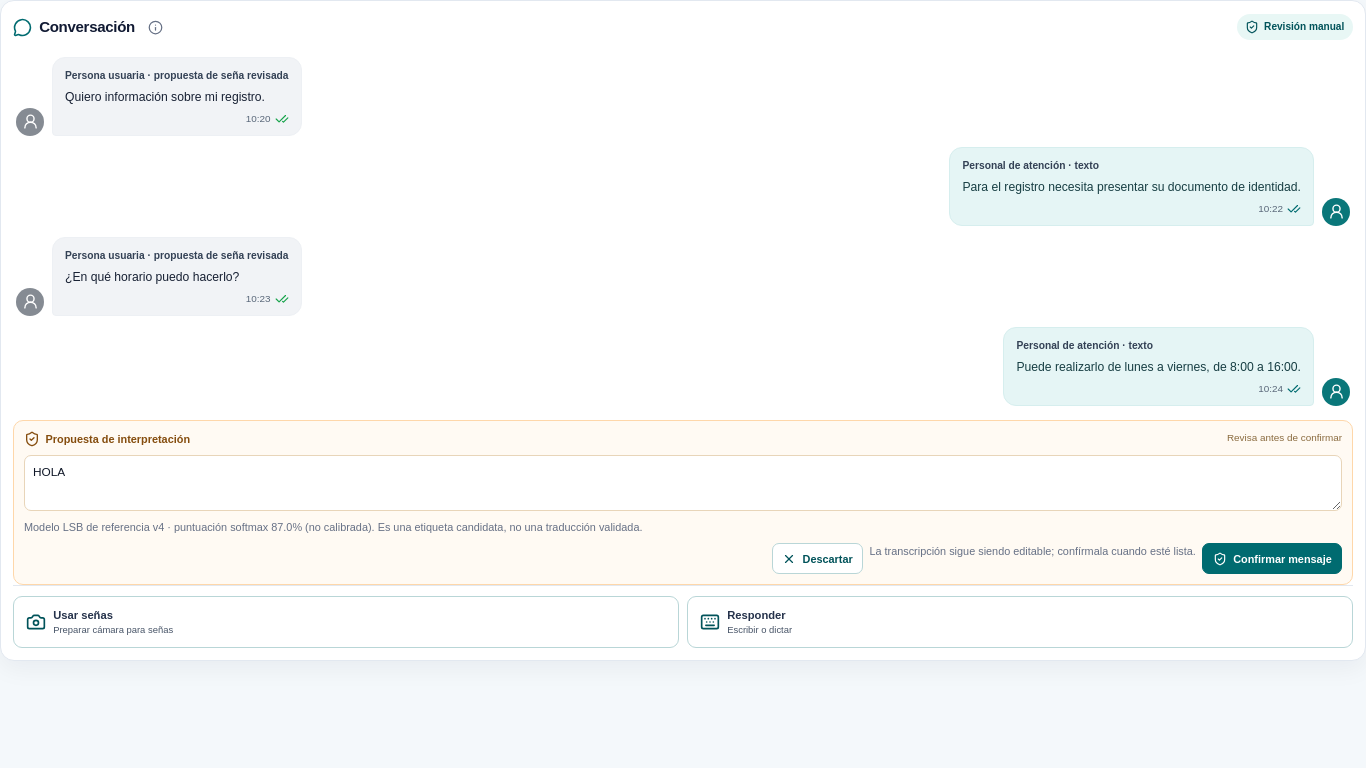
ConversationPanel › lets the user review and correct a model candidate before confirming
The image size is (1366, 768).
Replace the text in the text box named "Editar propuesta" with "Necesito orientación para mi trámite." at (683, 483), box [24,455,1342,511]
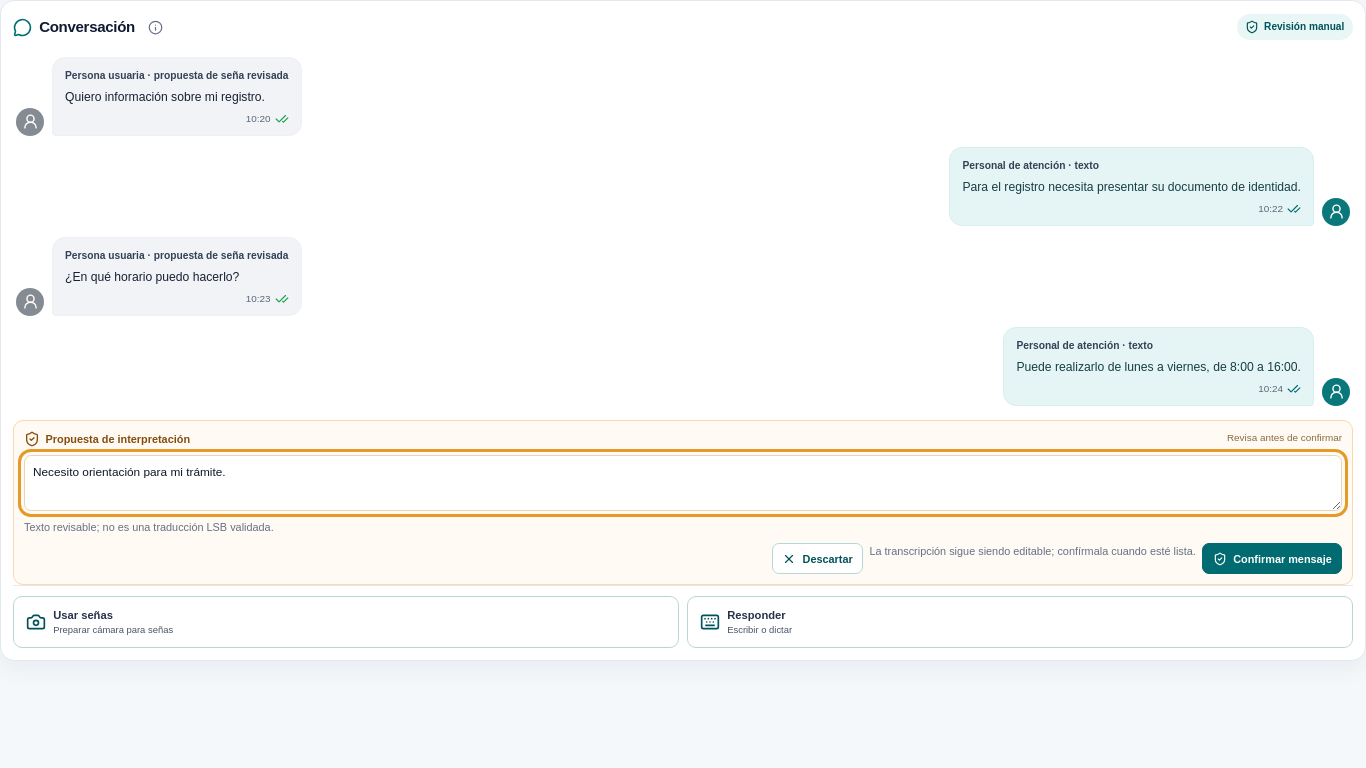
Click the button "Confirmar mensaje" at (1272, 559), box [1202,543,1342,574]
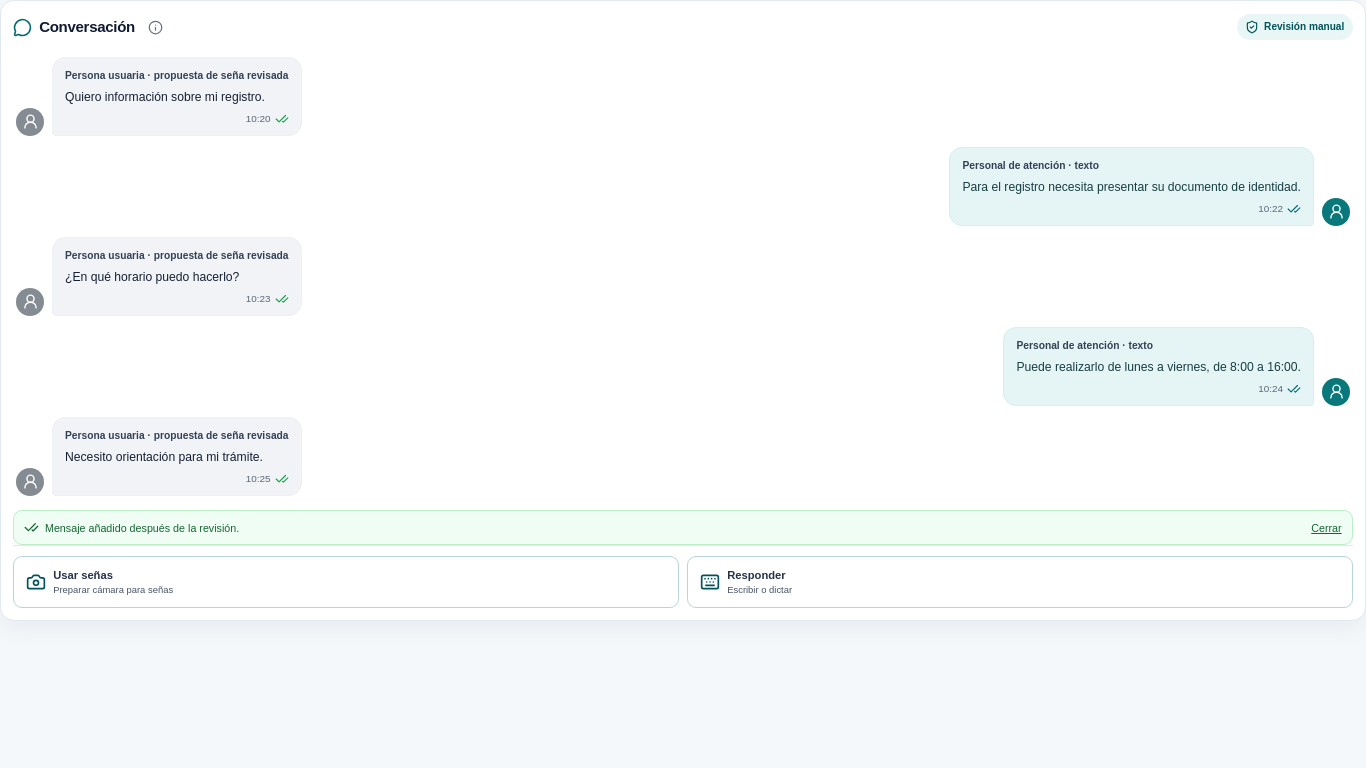
Result: the button named "Necesito orientación para mi trámite" is shown at [52,417,302,496]
